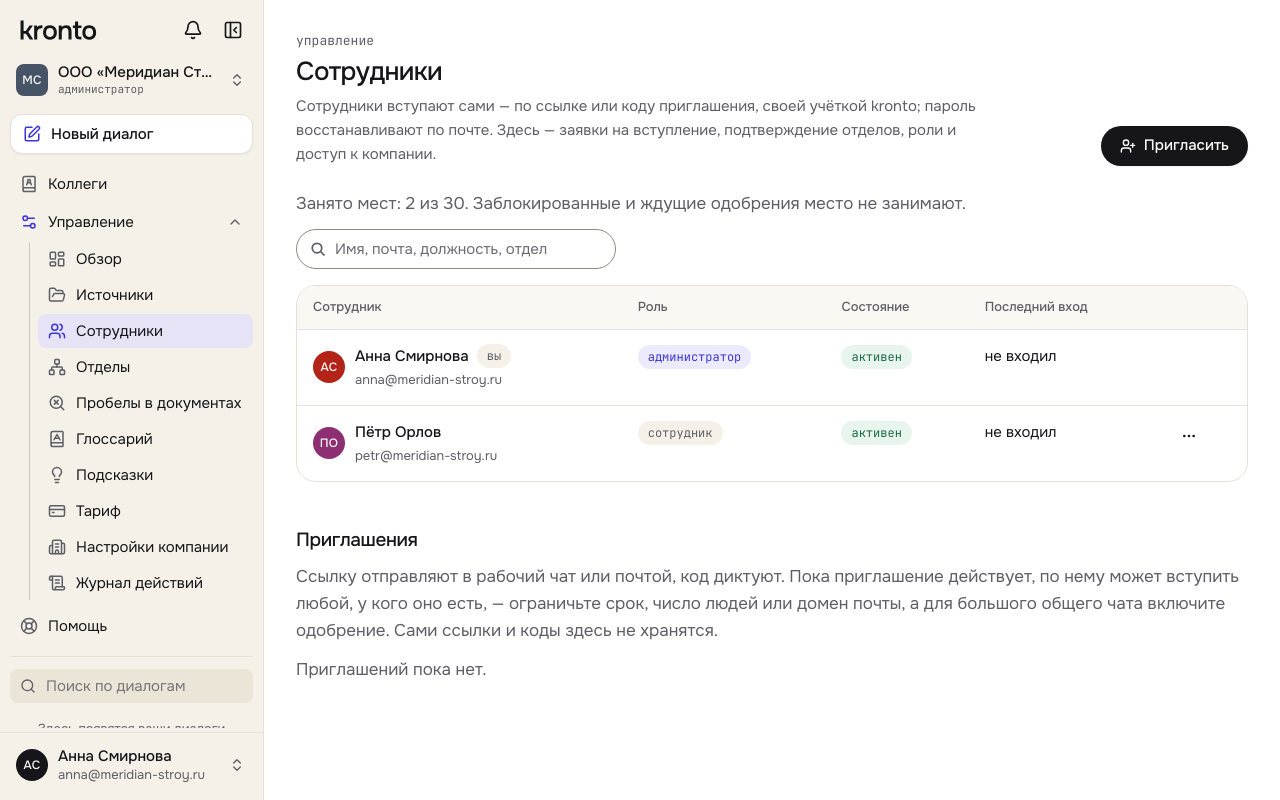
Test case: люди компании › блокировка и смена роли — из меню строки
Check: the text "Пётр Орлов" is shown, box [355,420,441,444]
What coordinates should you click on to do the following:
click the button named "Действия: Пётр Орлов"
I would click on:
 (1189, 436)
Its box is [1173,420,1205,452].
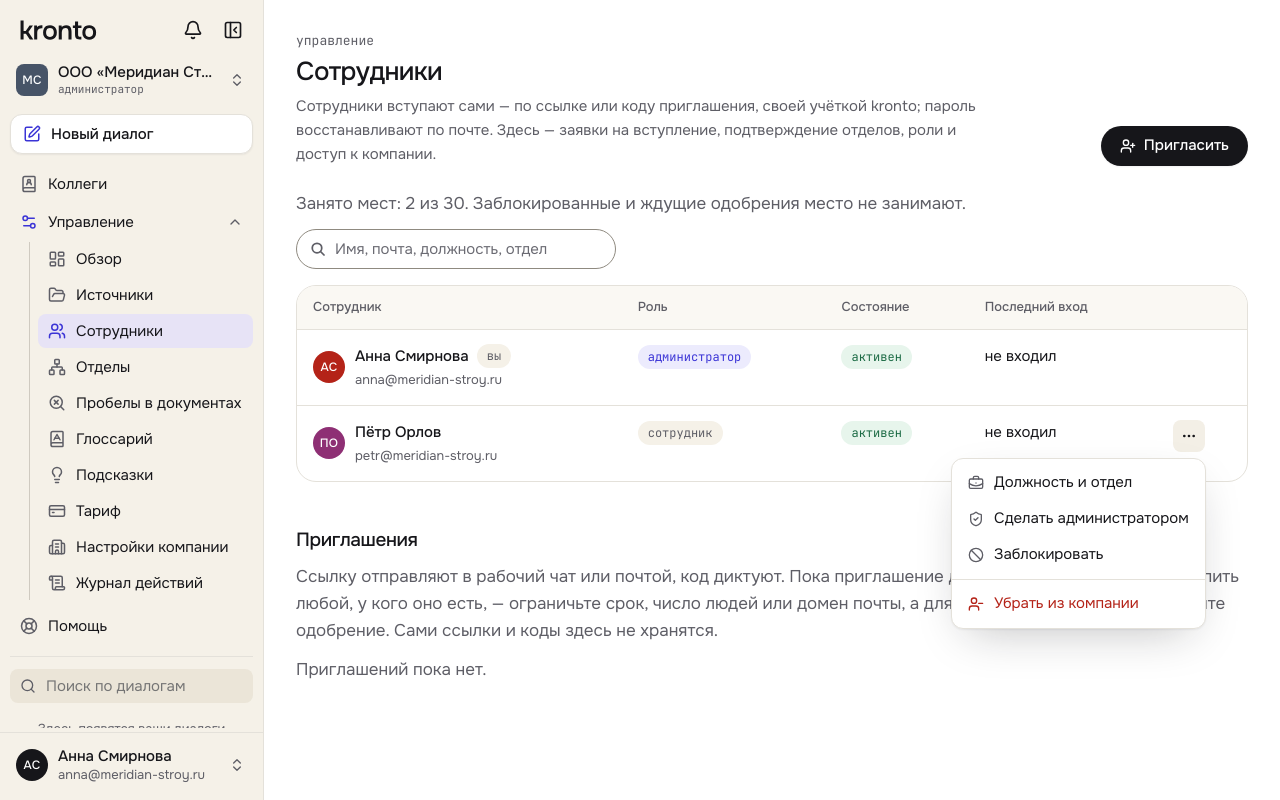
What coordinates should you click on to do the following:
click the menu item "Заблокировать"
I would click on:
 (1036, 554)
Its box is [968,544,1104,564].
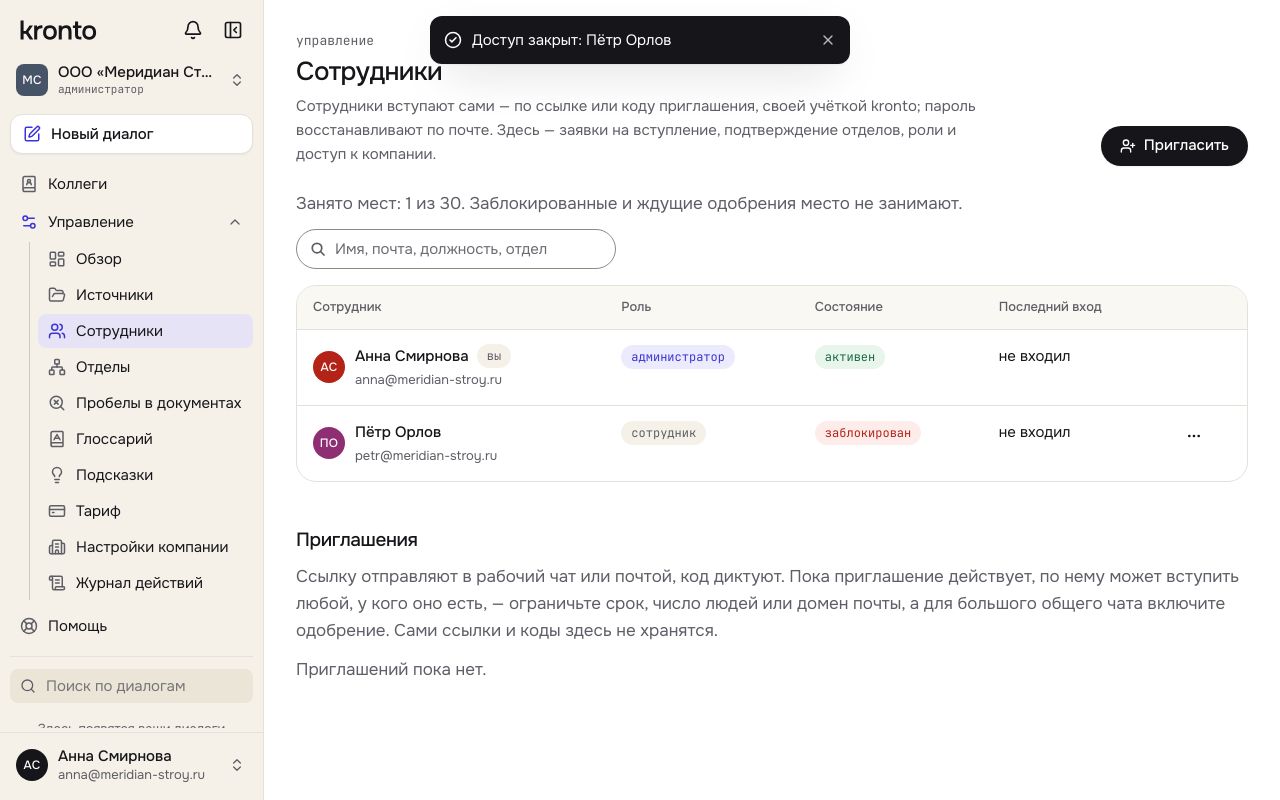
Check: the text "Доступ закрыт: Пётр Орлов" is shown, box [472,30,672,50]
Check: the text "заблокирован" is shown, box [815,421,921,445]
What coordinates should you click on to do the following:
click the button named "Действия: Пётр Орлов"
I would click on:
 (1194, 436)
Its box is [1178,420,1210,452].
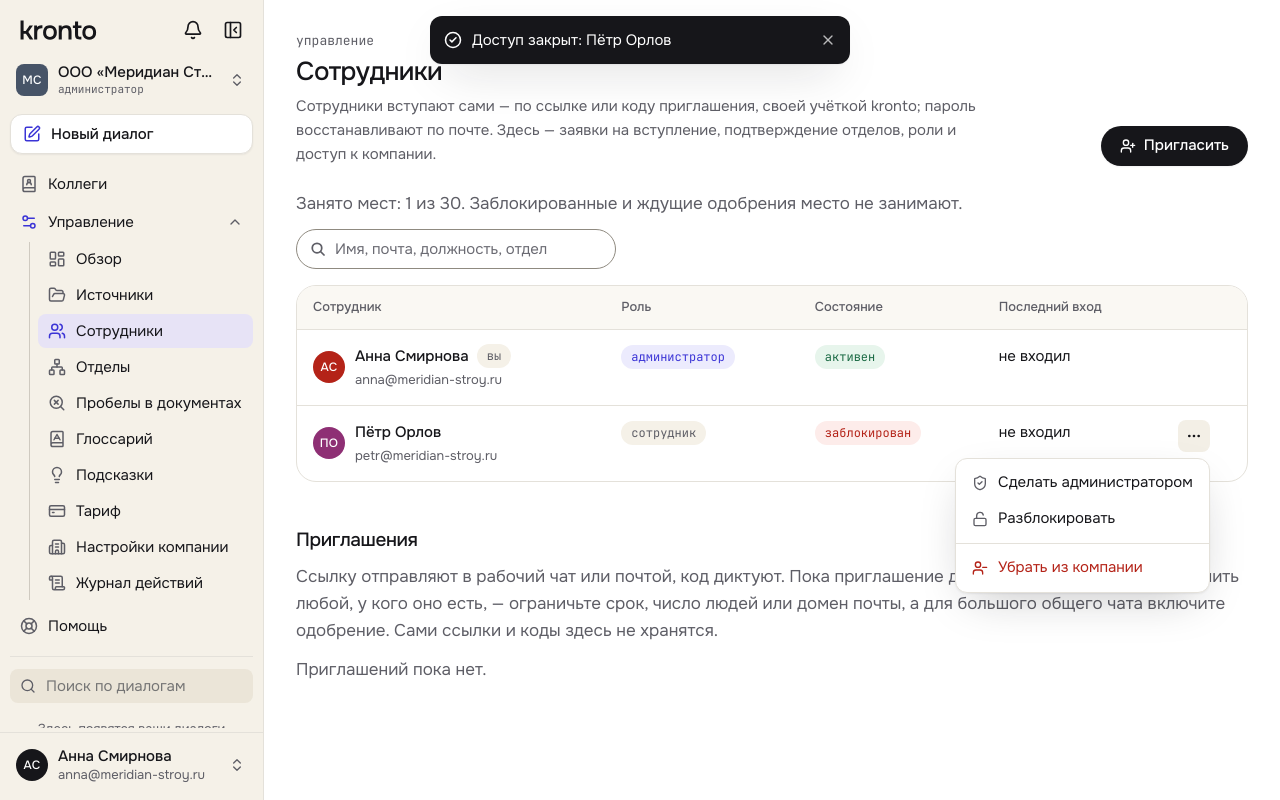
Check: the menu item "Разблокировать" is shown, box [972,508,1115,528]
What coordinates should you click on to do the following:
click the menu item "Сделать администратором"
I would click on:
 (1082, 482)
Its box is [972,472,1193,492].
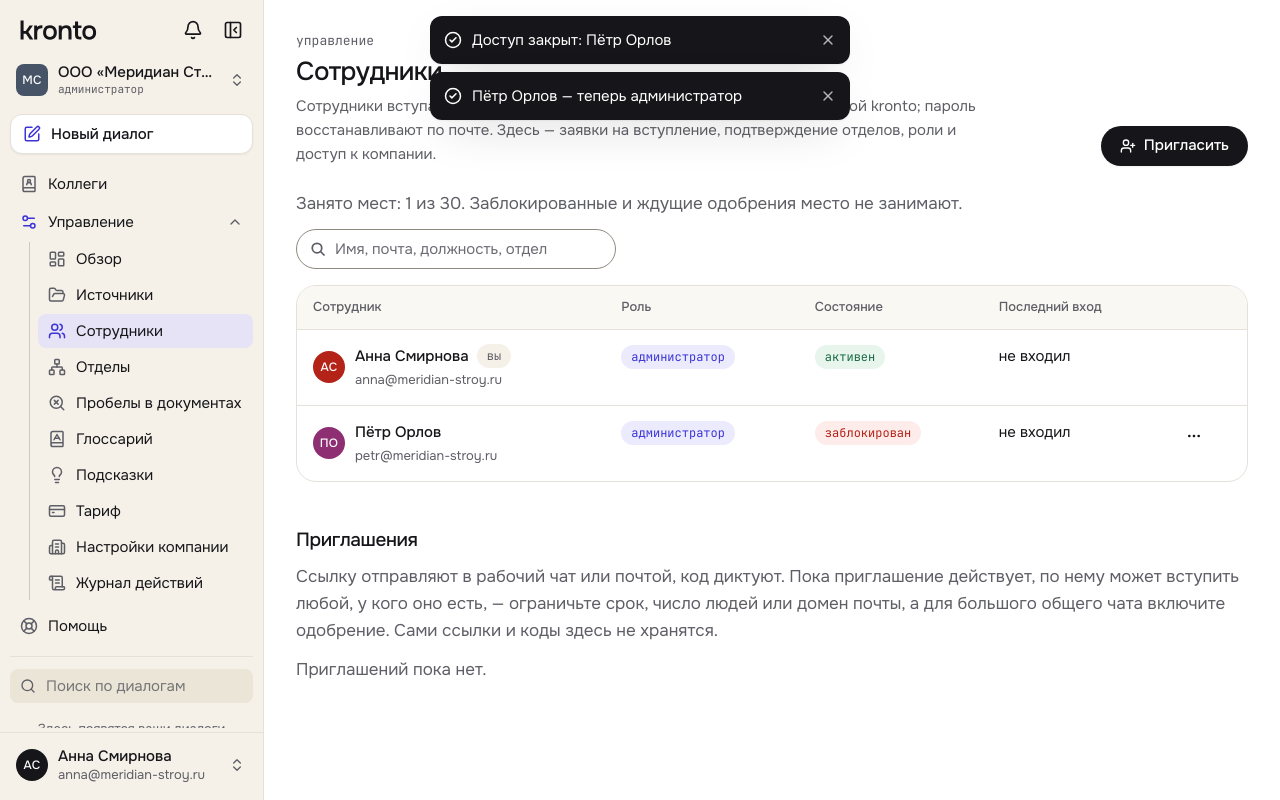
Check: the text "Пётр Орлов — теперь администратор" is shown, box [472,86,742,106]
Check: the 3rd text "администратор" is shown, box [621,421,735,445]
